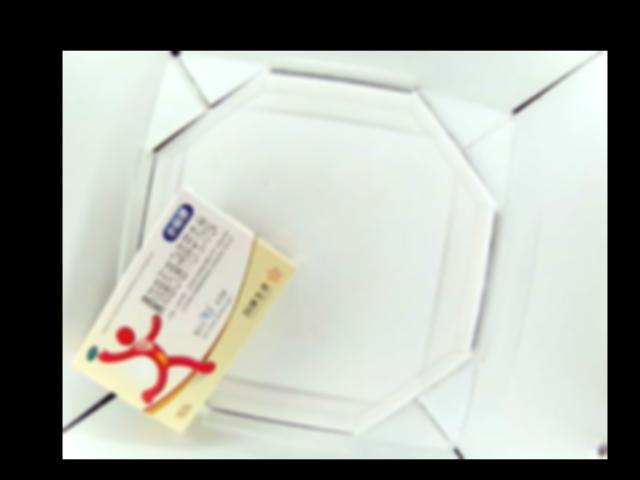Medicine: (71, 187, 298, 432)
